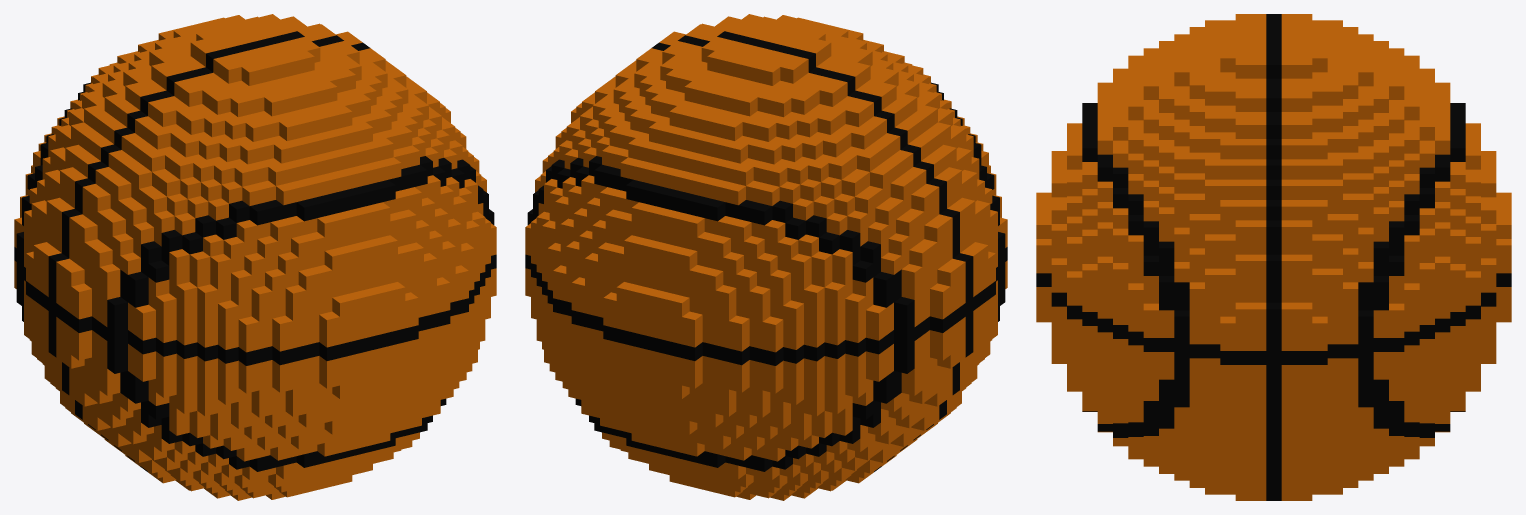
File: basketball.obj
The picture shows the model from 3 angles, left to right: view 1: azimuth 30°, elevation 25°; view 2: azimuth 150°, elevation 25°; view 3: azimuth 270°, elevation 25°; orthographic projection.
Size of the model in its own units: 3.1 by 3.1 by 3.1.
Materials: 1 (1 with a texture image).
